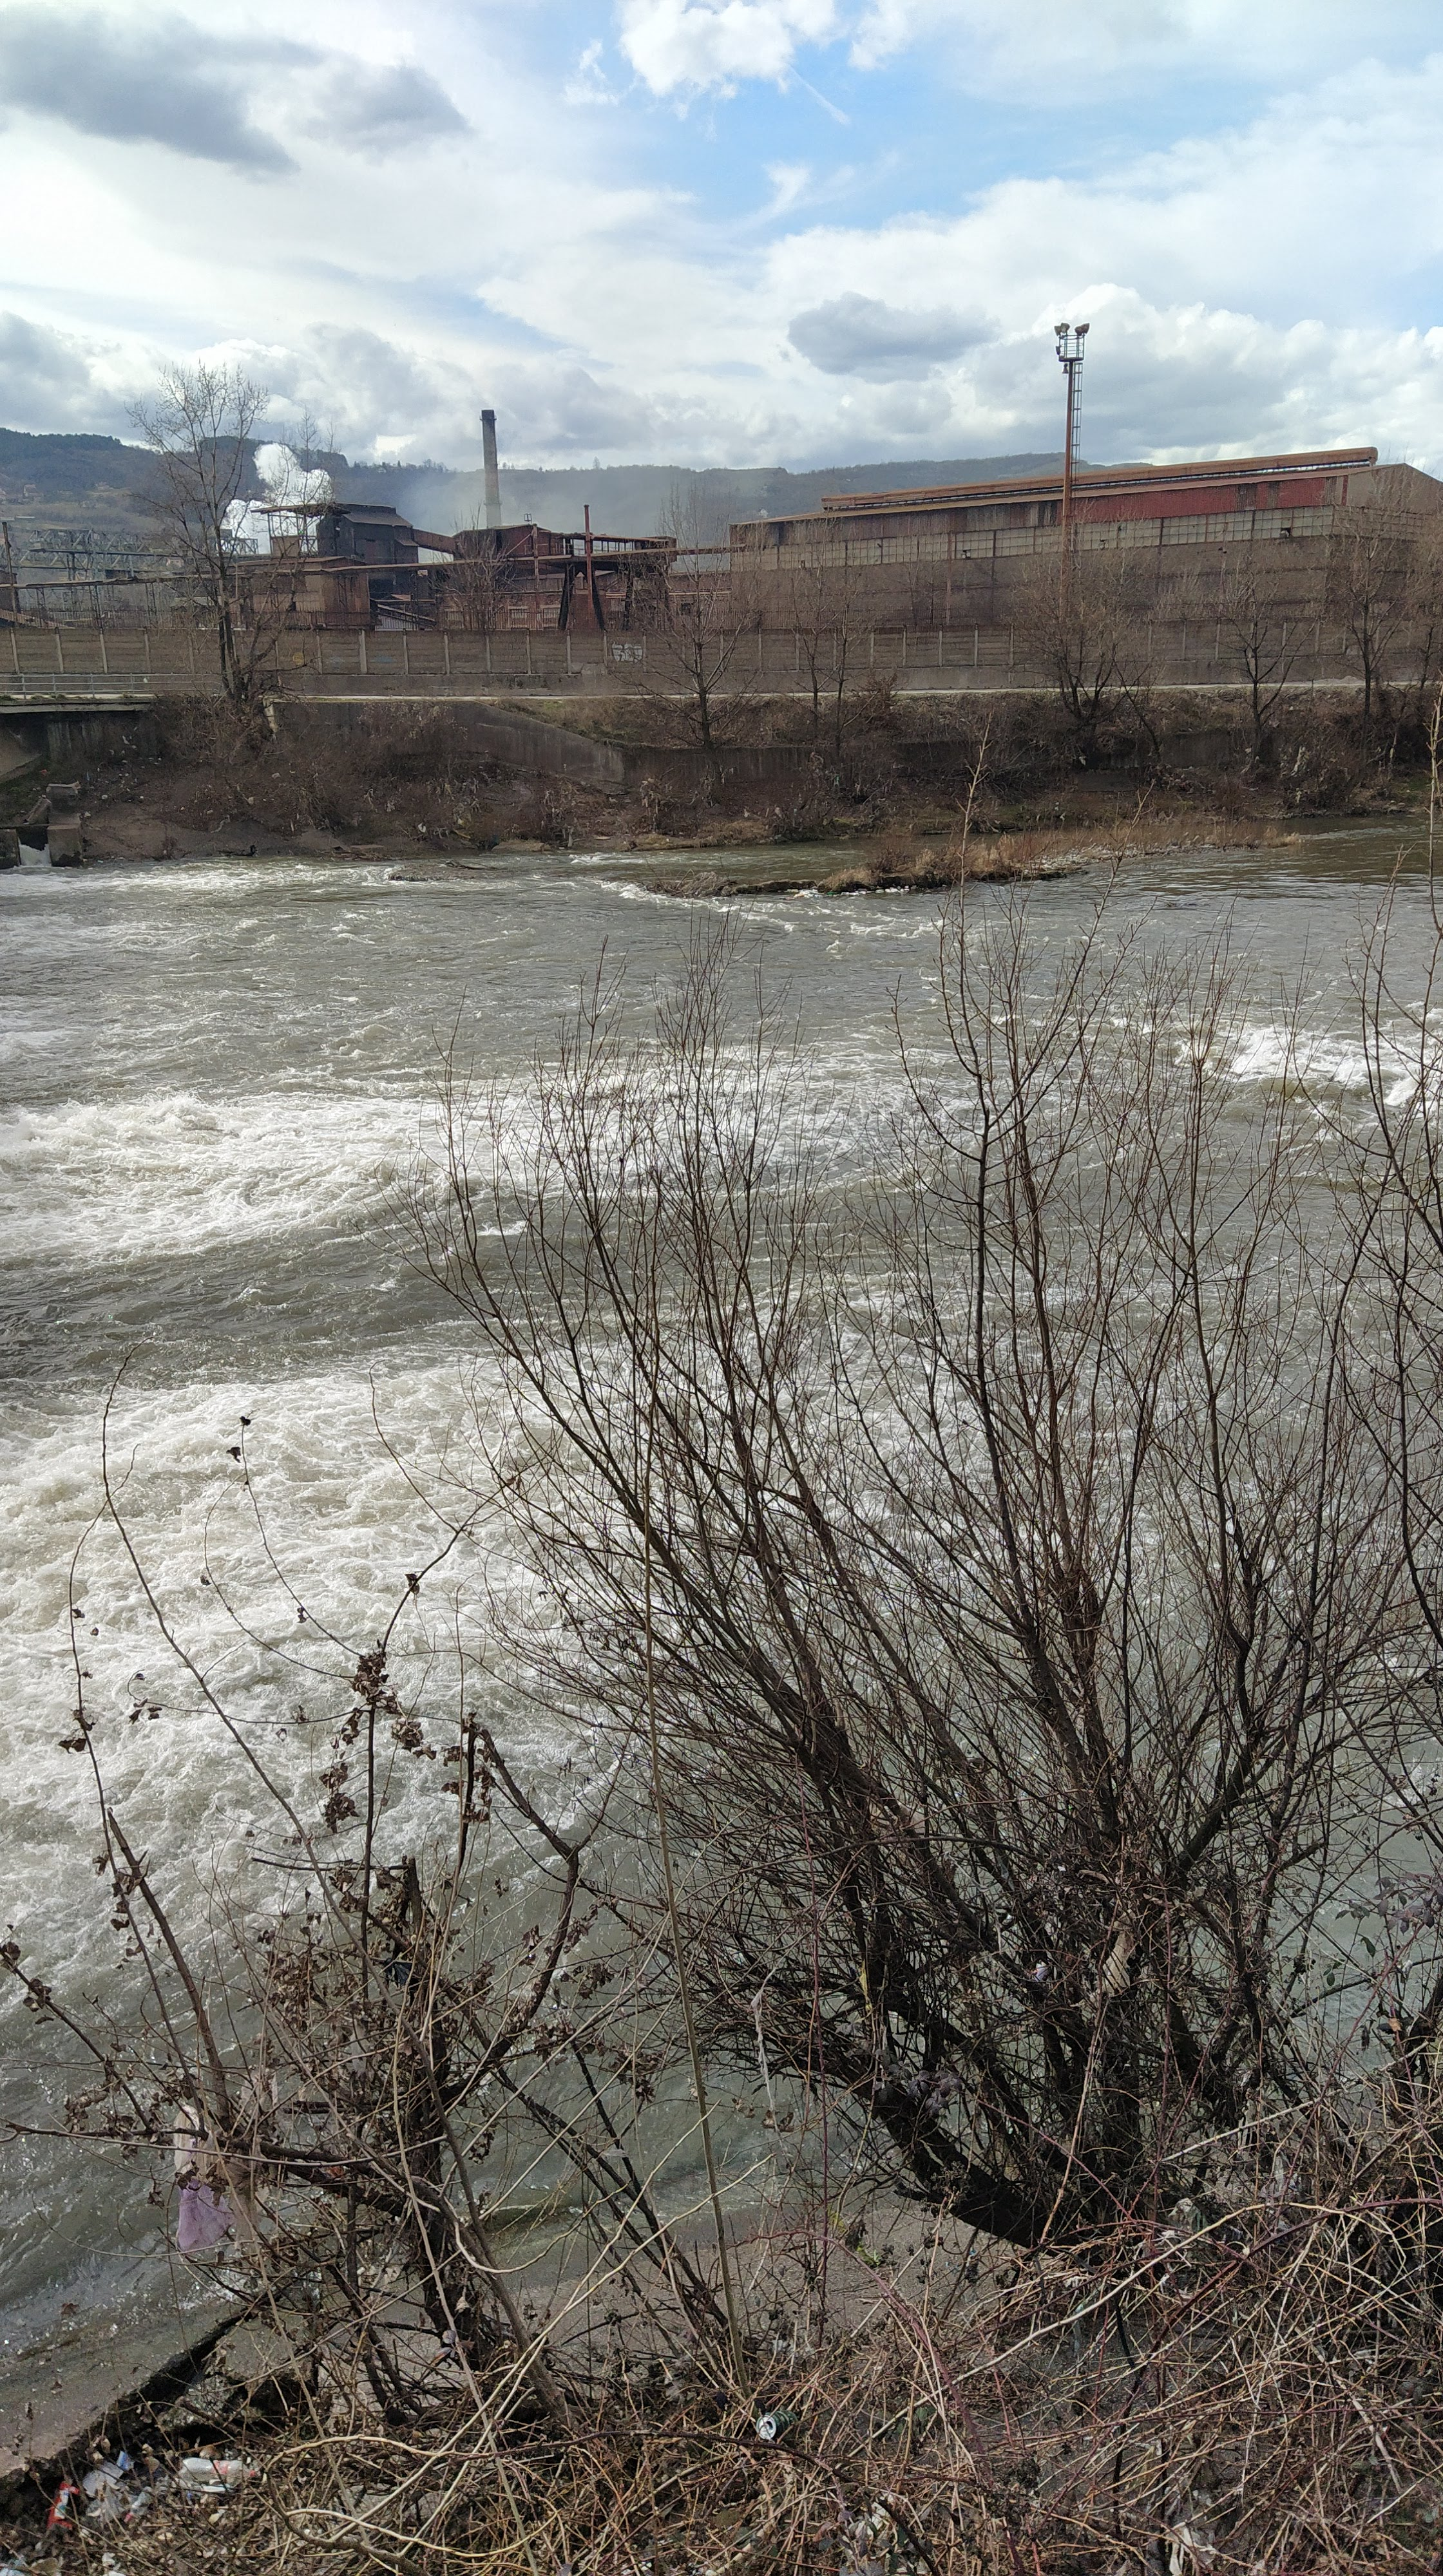Plastic Bottle: (875, 890, 884, 893), (839, 892, 848, 895), (850, 892, 859, 895), (827, 892, 834, 895)
